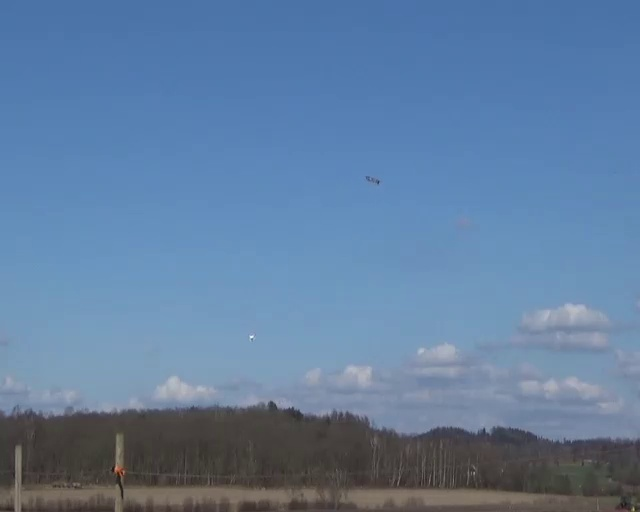DRONE: (365, 175, 380, 185)
